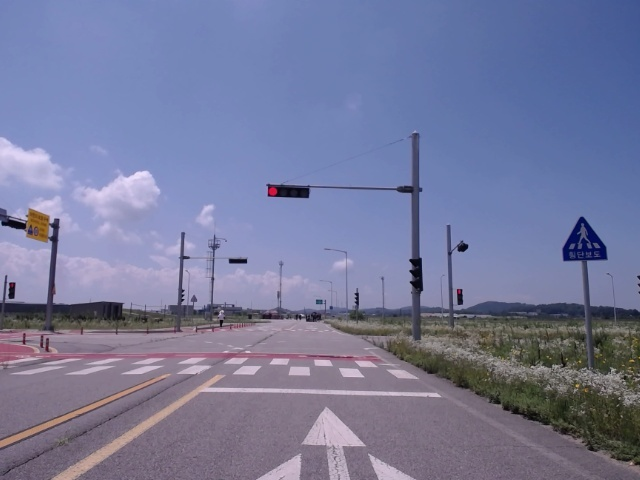red_4: (268, 187, 309, 198)
